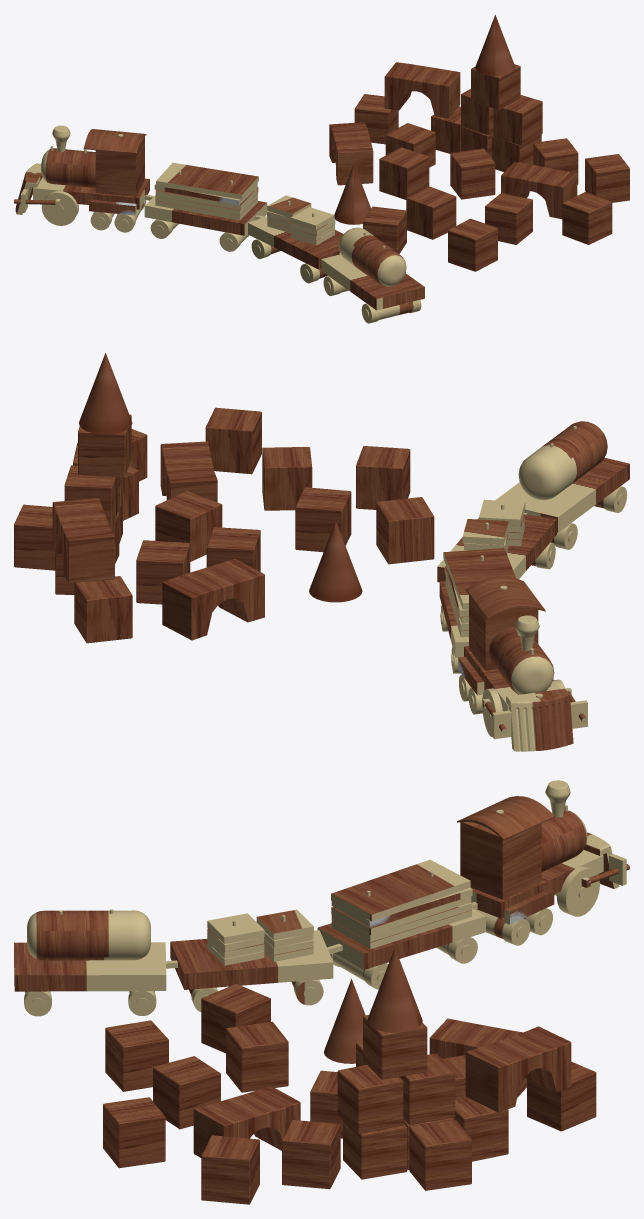
Rendered from uploads_files_48673_train.FBX.
3 views of the same model, one above another, from view 1: azimuth 30°, elevation 25°; view 2: azimuth 150°, elevation 25°; view 3: azimuth 270°, elevation 25° (orthographic). The views are drawn at different scales.
Visible parts, largest first — view 1: train01, train02, train04, train03, Box577, Box579, Box578, Box576, Box575, Box520, Box516, Box515 (+14 smaller); view 2: train01, train04, Box578, train03, Box577, train02, Box514, Box513, Box576, Box515, Box520, Box575 (+11 smaller); view 3: train01, train02, train04, train03, Box577, Box579, Box508, Box576, Box520, Box511, Box517, Box507 (+12 smaller).
Part boxes in pixels (bbox=[...]): train01: bbox=[14, 125, 149, 232]; train02: bbox=[144, 162, 267, 251]; train04: bbox=[321, 227, 424, 323]; train03: bbox=[248, 195, 343, 283]; Box577: bbox=[384, 62, 460, 118]; Box579: bbox=[501, 162, 577, 219]; Box578: bbox=[329, 122, 373, 185]; Box576: bbox=[562, 191, 612, 244]; Box575: bbox=[448, 218, 497, 271]; Box520: bbox=[406, 186, 456, 239]; Box516: bbox=[379, 147, 429, 199]; Box515: bbox=[450, 148, 495, 199]; train01: bbox=[458, 576, 587, 751]; train04: bbox=[495, 421, 629, 549]; Box578: bbox=[162, 559, 264, 640]; train03: bbox=[437, 499, 556, 582]; Box577: bbox=[52, 498, 114, 583]; train02: bbox=[439, 548, 515, 673]; Box514: bbox=[376, 497, 434, 564]; Box513: bbox=[74, 576, 132, 643]; Box576: bbox=[205, 407, 261, 474]; Box515: bbox=[155, 491, 222, 561]; Box520: bbox=[295, 487, 351, 552]; Box575: bbox=[356, 446, 410, 509]; train01: bbox=[457, 780, 629, 945]; train02: bbox=[317, 859, 485, 989]; train04: bbox=[14, 909, 177, 1016]; train03: bbox=[170, 909, 342, 1011]; Box577: bbox=[465, 1026, 571, 1112]; Box579: bbox=[193, 1085, 300, 1157]; Box508: bbox=[409, 1119, 471, 1190]; Box576: bbox=[103, 1097, 165, 1168]; Box520: bbox=[226, 1021, 288, 1092]; Box511: bbox=[337, 1065, 403, 1133]; Box517: bbox=[282, 1120, 340, 1189]; Box507: bbox=[201, 1135, 259, 1204].
Bounding box in the file's own units: 110 × 32.47 × 85.85.
